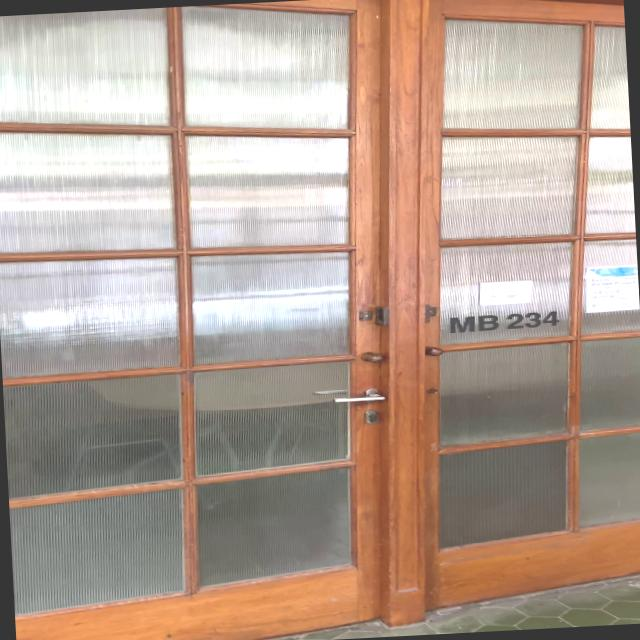room234Window: (443, 308, 564, 336)
